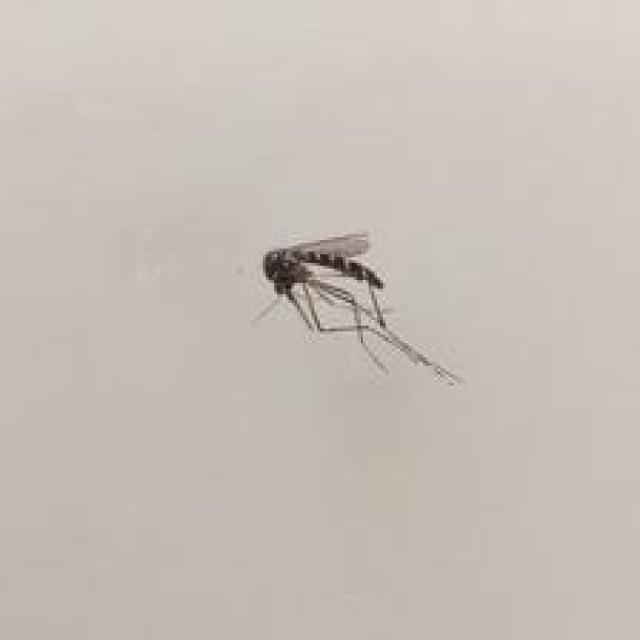Aedes albopictus: (250, 230, 461, 387)
